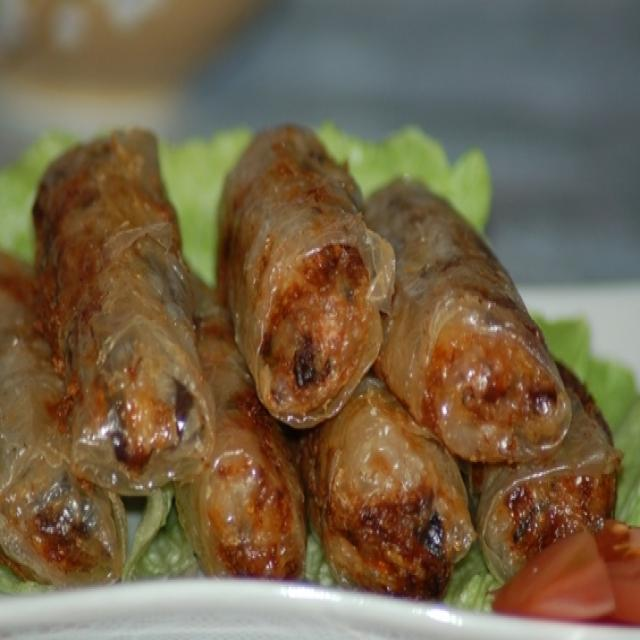炸货点心: (8, 60, 601, 604)
